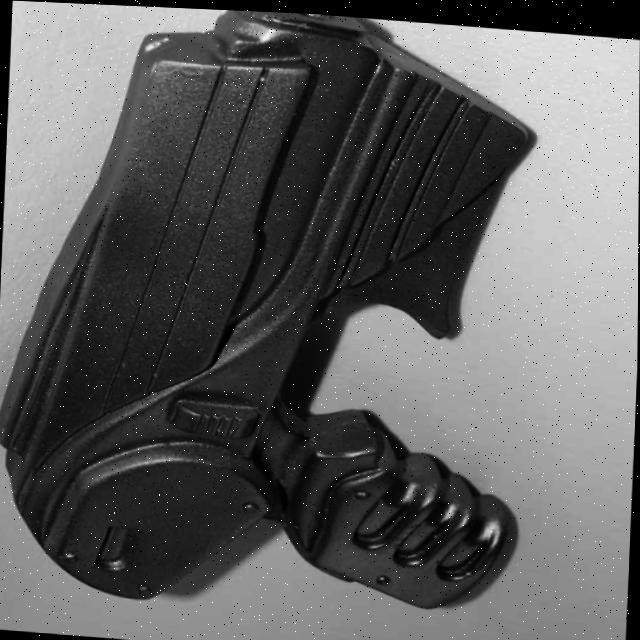pistol: (0, 0, 536, 628)
